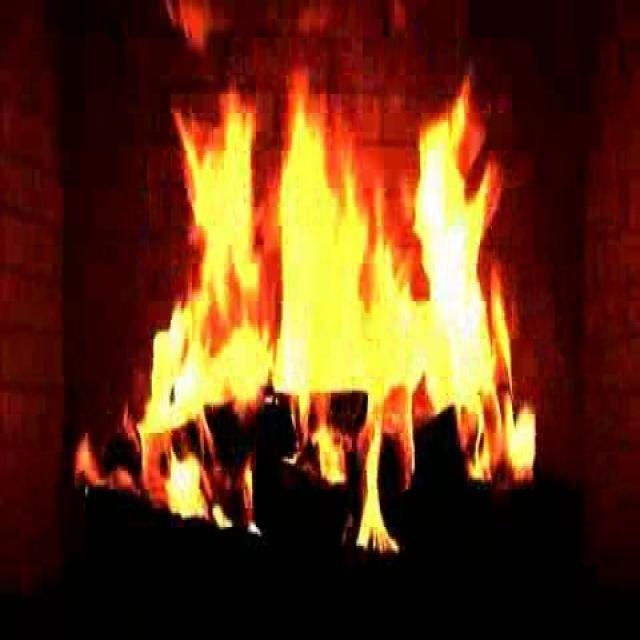Fire: (114, 68, 534, 534)
